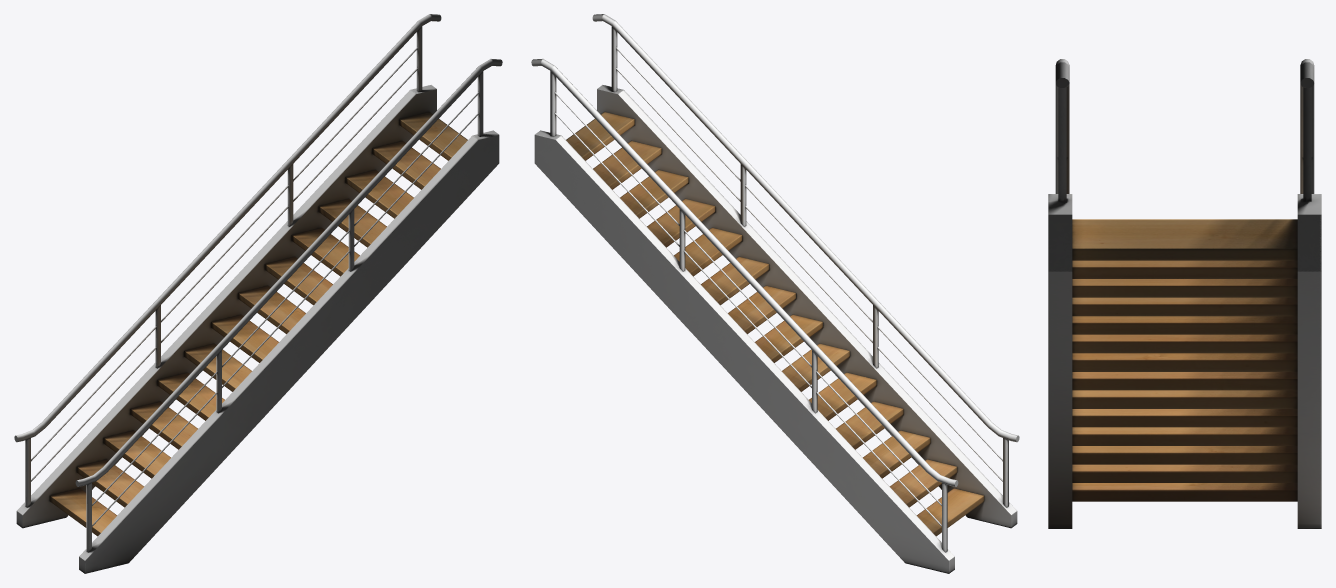
The model's file is EscalerasInt.obj.
3 renders of one model, left to right at view 1: azimuth 30°, elevation 25°; view 2: azimuth 150°, elevation 25°; view 3: azimuth 270°, elevation 25°, orthographic. The views are drawn at different scales.
Parts seen in each view (by area): view 1: prim0_prim0-mesh; view 2: prim0_prim0-mesh; view 3: prim0_prim0-mesh.
Boxes of the visible parts, x1=… form: prim0_prim0-mesh: x1=14, y1=14, x2=502, y2=573; prim0_prim0-mesh: x1=531, y1=14, x2=1019, y2=573; prim0_prim0-mesh: x1=1048, y1=59, x2=1321, y2=528.
Size of the model in its own units: 8.56 by 7.95 by 2.39.
Materials: 1 (1 with a texture image).
